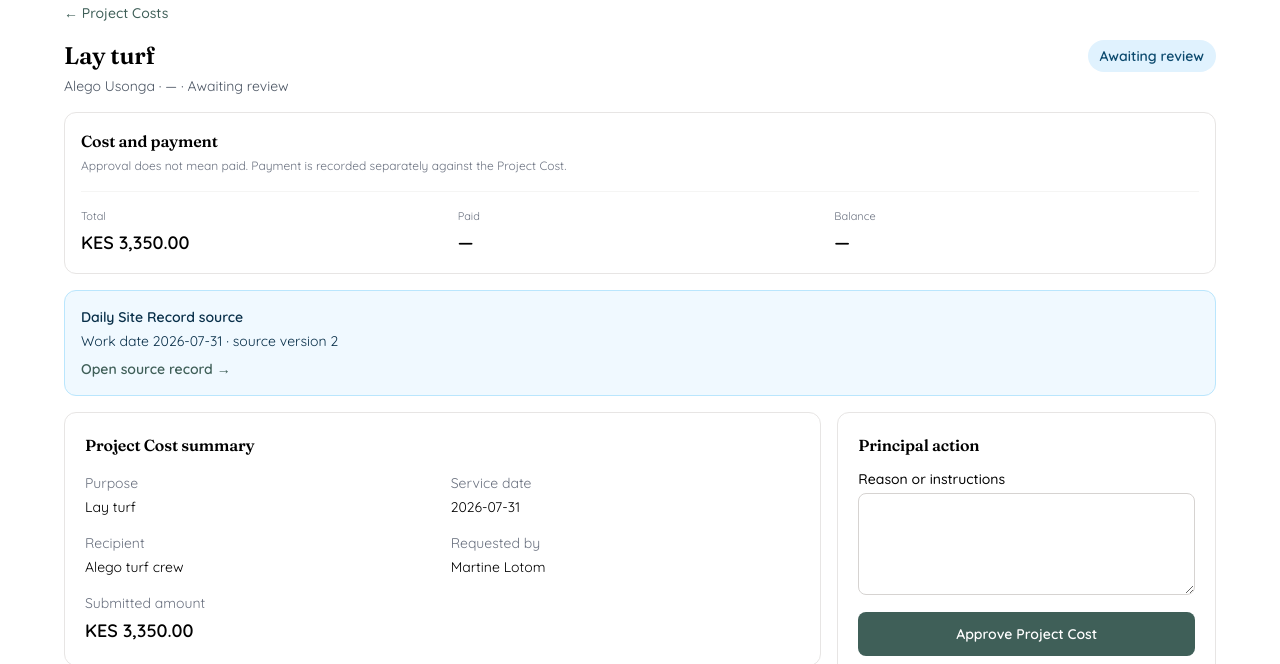
Scenario: Project Costs admin surfaces › shows whole-cost Principal decisions, history and stale recovery
Expected: the text "Approval does not mean paid. Payment is recorded separately against the Project Cost." is shown, top-left (81, 158), bottom-right (566, 173)
Click the button "Approve Project Cost" at (1027, 634), box top-left (858, 612), bottom-right (1195, 656)
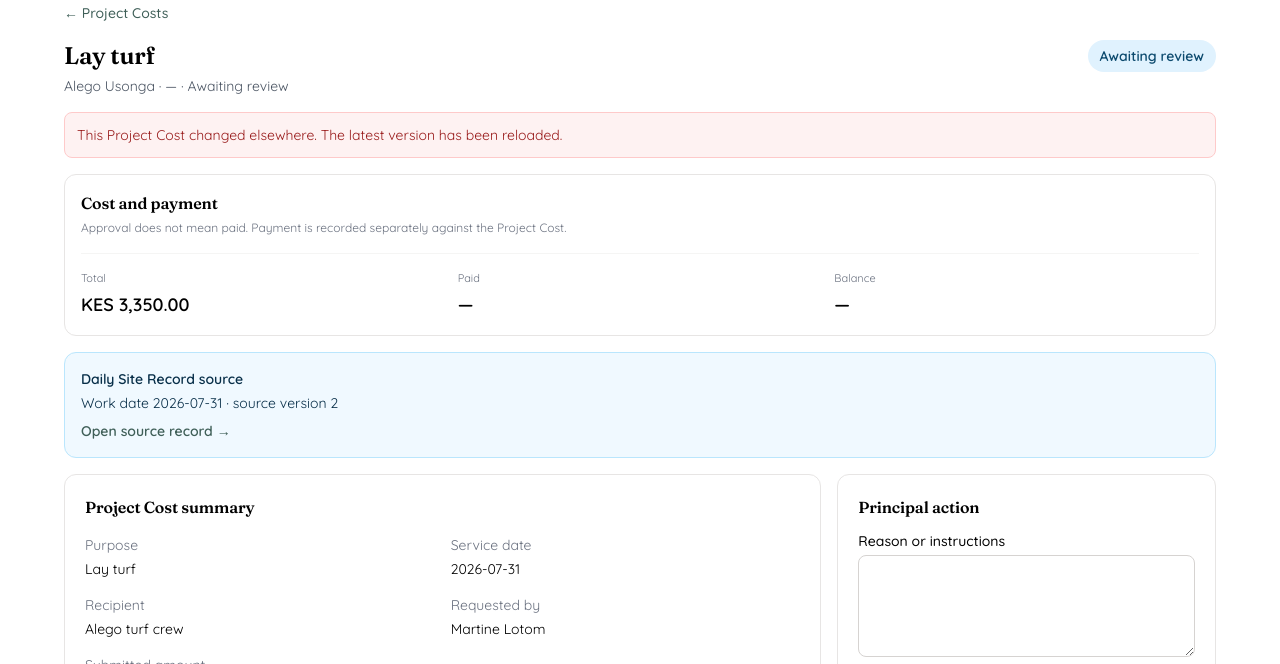
Result: the text "changed elsewhere" is shown at top-left (77, 126), bottom-right (562, 144)
